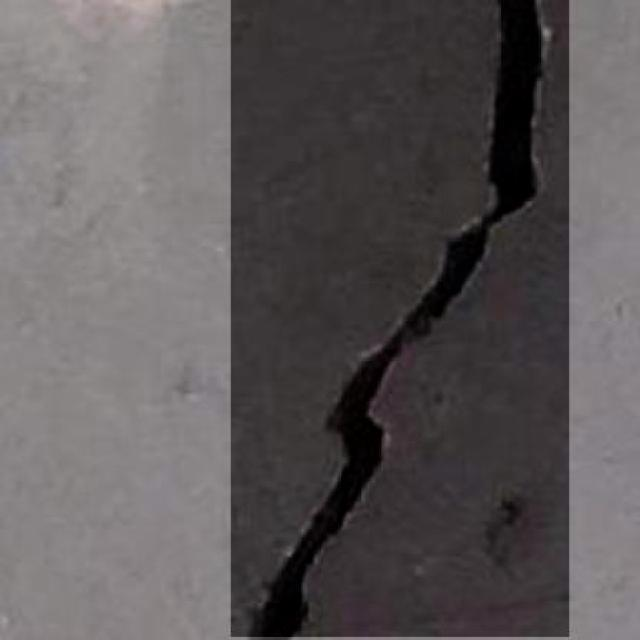crack: (186, 0, 574, 640)
